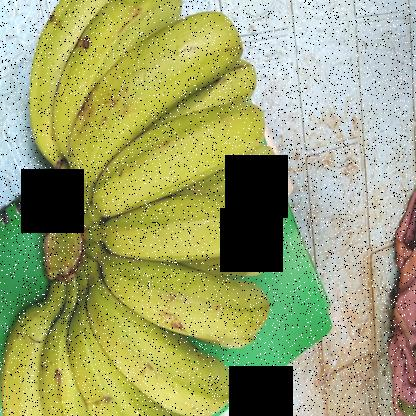freshunripe: (92, 102, 272, 220), (84, 280, 228, 412), (103, 192, 280, 269), (25, 1, 88, 157), (0, 282, 59, 416)
unripe: (65, 15, 246, 187), (48, 1, 178, 141), (113, 251, 272, 353)
